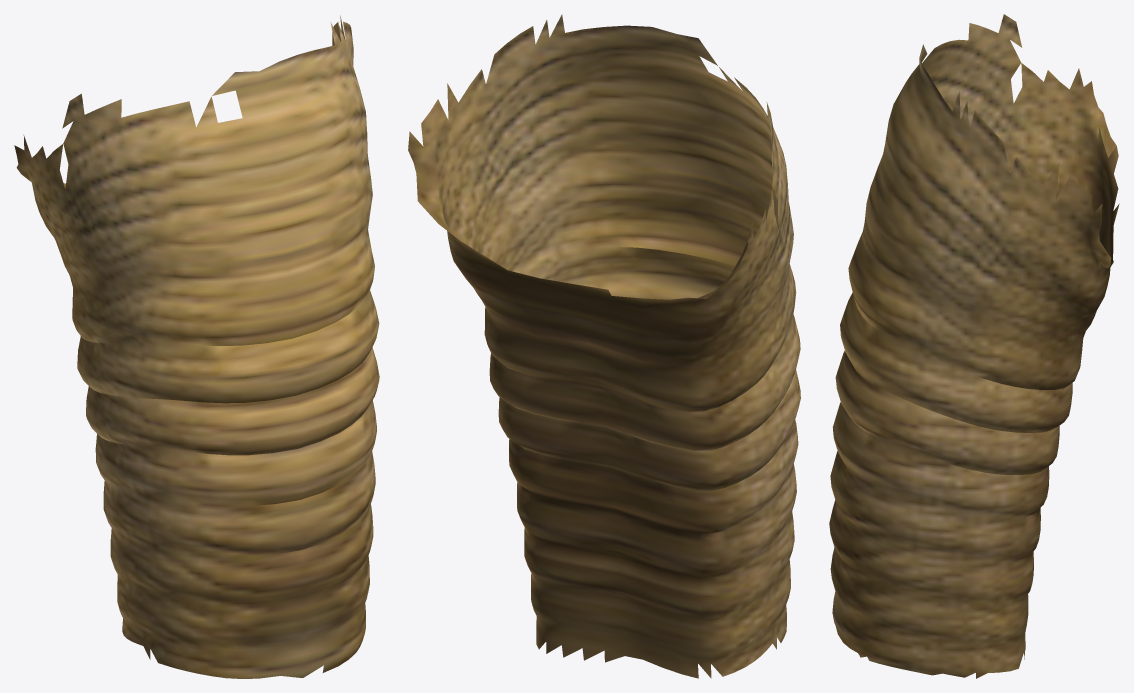
The model's file is Trompa4.obj.
3 renders of one model, left to right at view 1: azimuth 30°, elevation 25°; view 2: azimuth 150°, elevation 25°; view 3: azimuth 270°, elevation 25°, orthographic. The views are drawn at different scales.
Visible parts, largest first — view 1: MainEleM.003; view 2: MainEleM.003; view 3: MainEleM.003.
Part boxes in pixels (box(x1,y1,x2,y2)): MainEleM.003: box(14, 15, 379, 678); MainEleM.003: box(408, 14, 800, 678); MainEleM.003: box(829, 14, 1119, 678).
Bounding box in the file's own units: 0.1131 × 0.1975 × 0.0889.
Materials: 1 (1 with a texture image).
